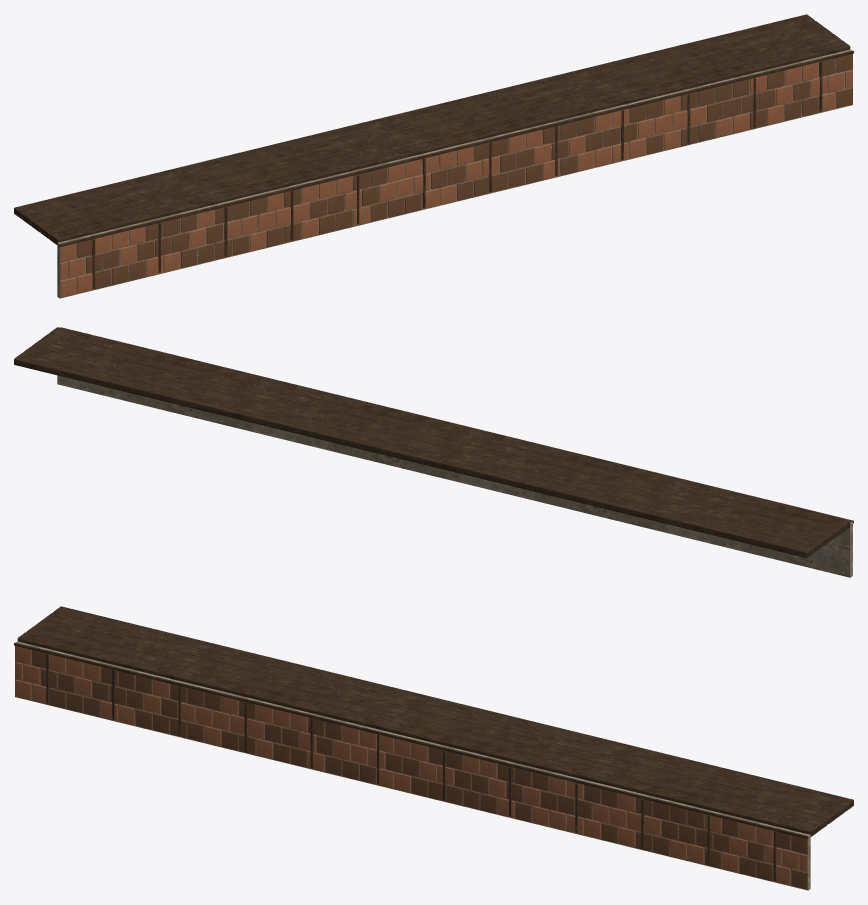
File: PROP_WarmWood_Jar_Counter.glb
The picture shows the model from 3 angles, top to bottom: view 1: azimuth 30°, elevation 25°; view 2: azimuth 150°, elevation 25°; view 3: azimuth 330°, elevation 25°; orthographic projection.
Visible parts, largest first — view 1: PROP_WarmWood_Jar_Counter; view 2: PROP_WarmWood_Jar_Counter; view 3: PROP_WarmWood_Jar_Counter.
Part boxes in pixels (x1,y1,x2,y2): PROP_WarmWood_Jar_Counter: [14, 14, 853, 298]; PROP_WarmWood_Jar_Counter: [14, 327, 853, 577]; PROP_WarmWood_Jar_Counter: [14, 606, 853, 890].
Bounding box in the file's own units: 6.9 × 0.479 × 0.709.
Materials: 5 (5 with a texture image).
